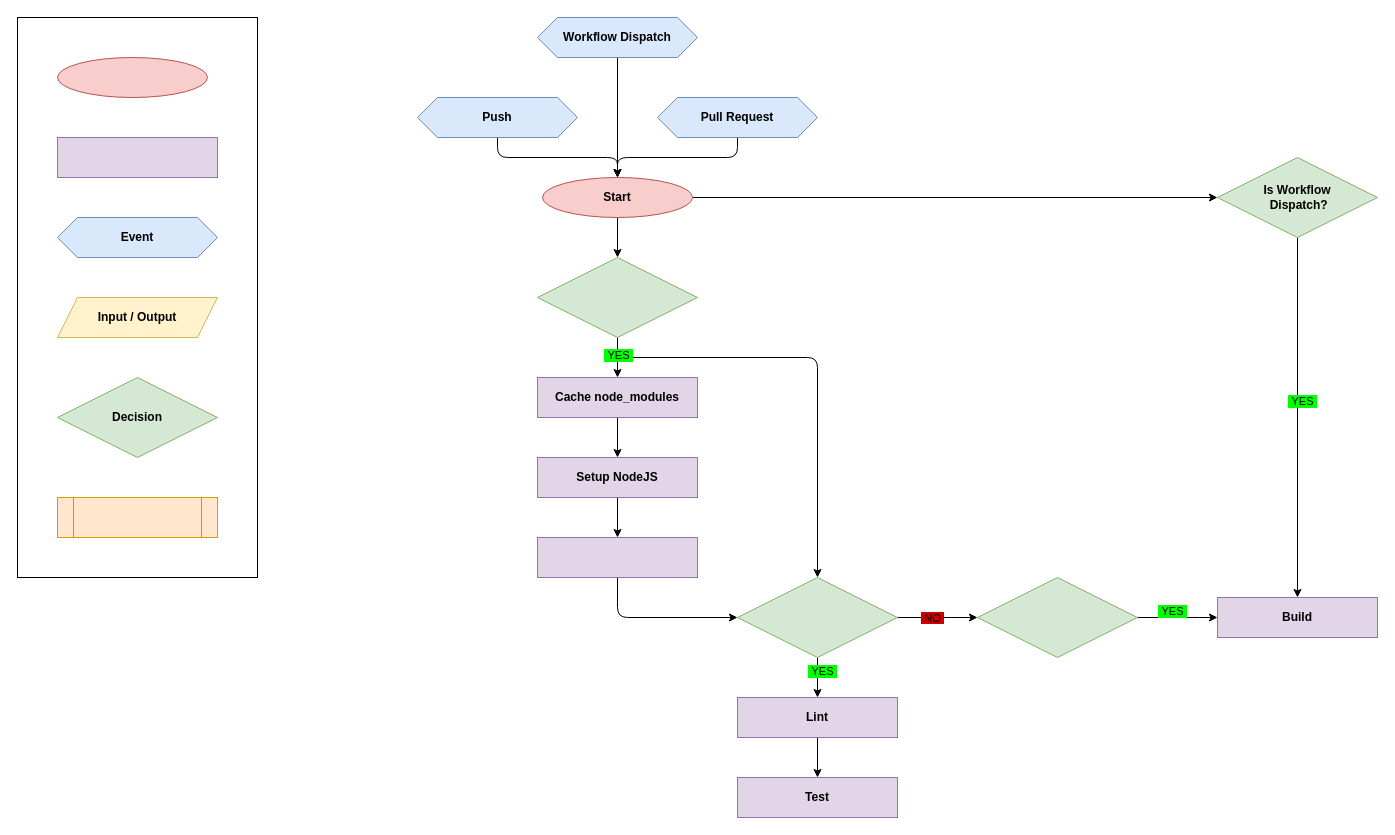
The diagram is 1395 pixels wide and 835 high, and some of its shapes have lost their labels. Each missing label, with the box of its shape:
Did FE project changed: (536, 256, 698, 338)
Generic Step: (56, 136, 218, 178)
Install npm@latest: (536, 536, 698, 578)
Is Pull Request event?: (976, 576, 1138, 658)
Is Push event?: (736, 576, 898, 658)
Start / End: (56, 56, 208, 98)
Subroutine / Subprogram: (56, 496, 218, 538)
